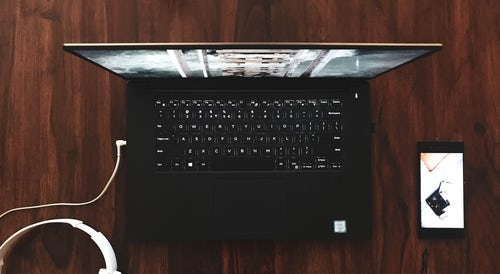phone: (414, 138, 470, 239)
